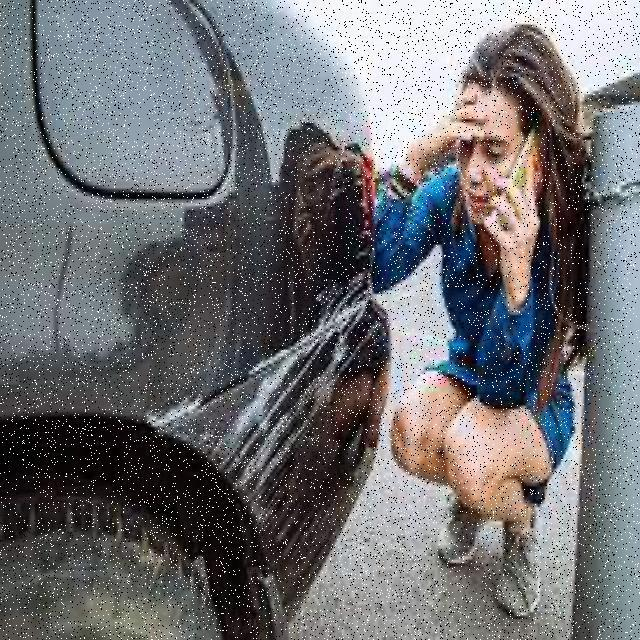quaterpanel-dent: (0, 0, 238, 574)
rear-bumper-dent: (95, 286, 442, 636)
